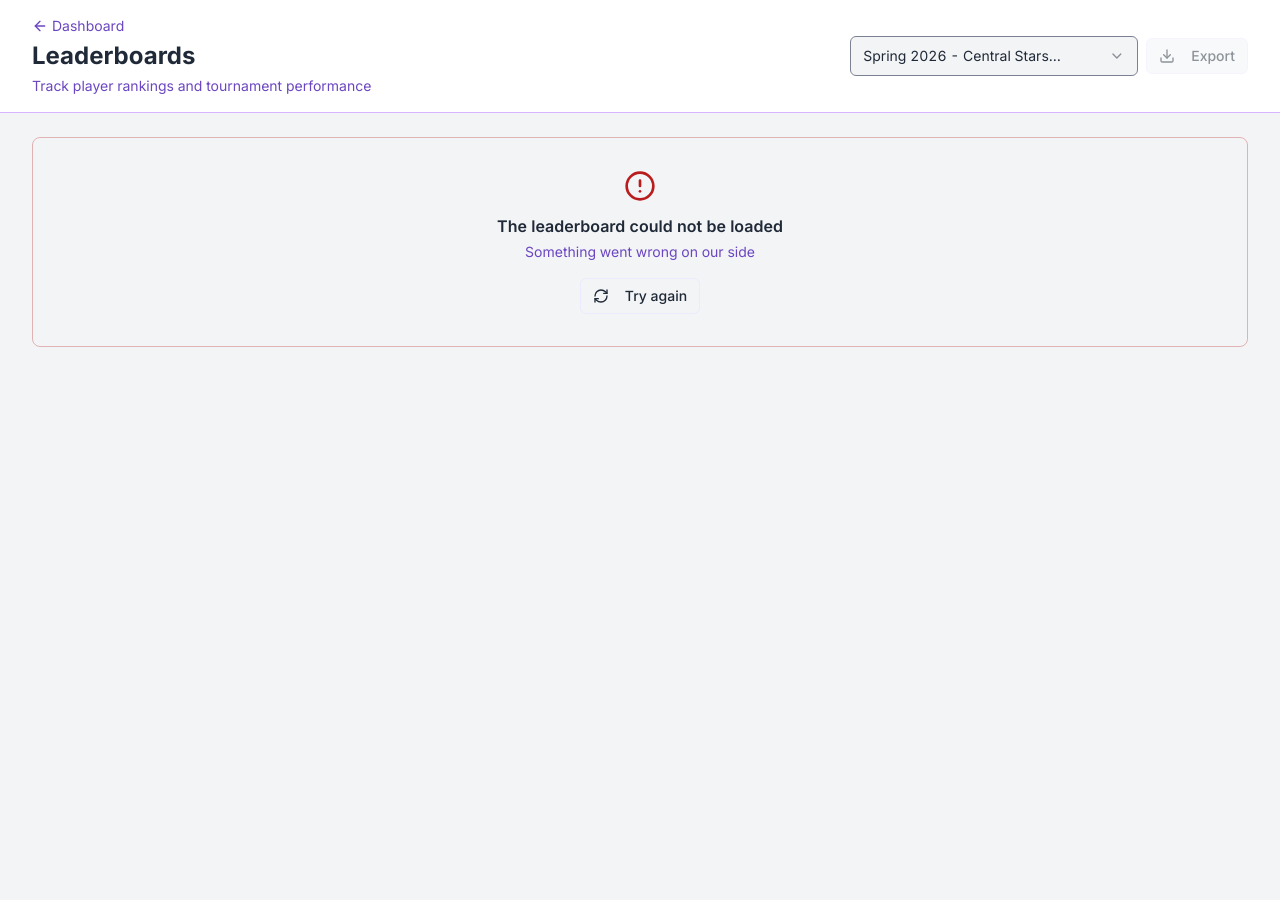
Test: LeaderboardsPage › shows a failed leaderboard with a retry
Expected: the message shows "The leaderboard could not be loaded", [497,216,783,236]
Click the button "Try again" at point(640, 296), box [580,278,700,314]
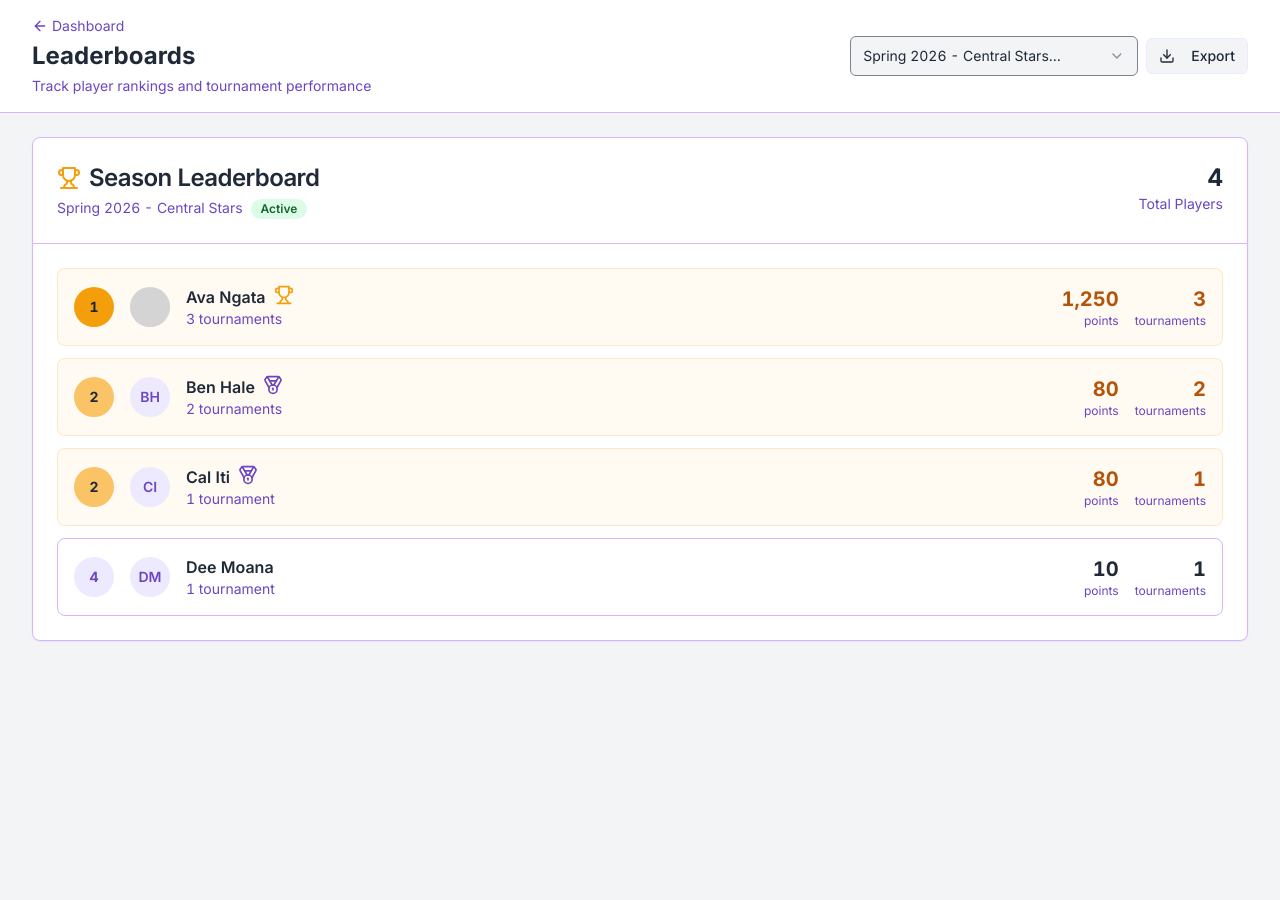
Now the list item with test id "leaderboard-entry-4" is shown, box [57,538,1223,616]
